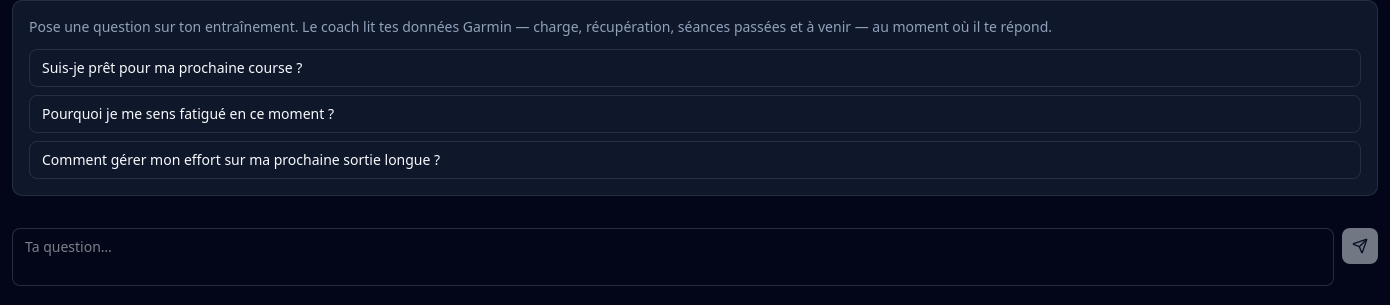
Test: ChatPanel › renders an error without losing the question
The width and height of the screenshot is (1390, 305).
Type "q" into the text box with placeholder "Ta question…" at (673, 257), box [12,228,1334,286]
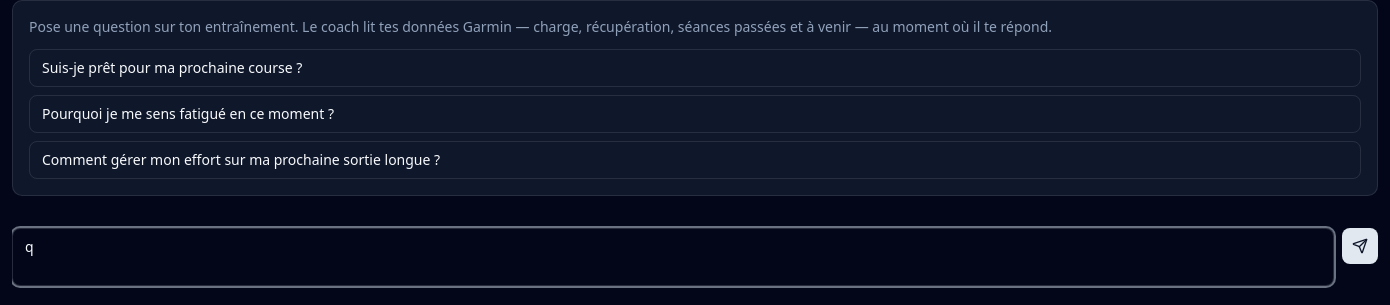
Click the button named "Envoyer" at (1360, 246), box [1342,228,1378,264]
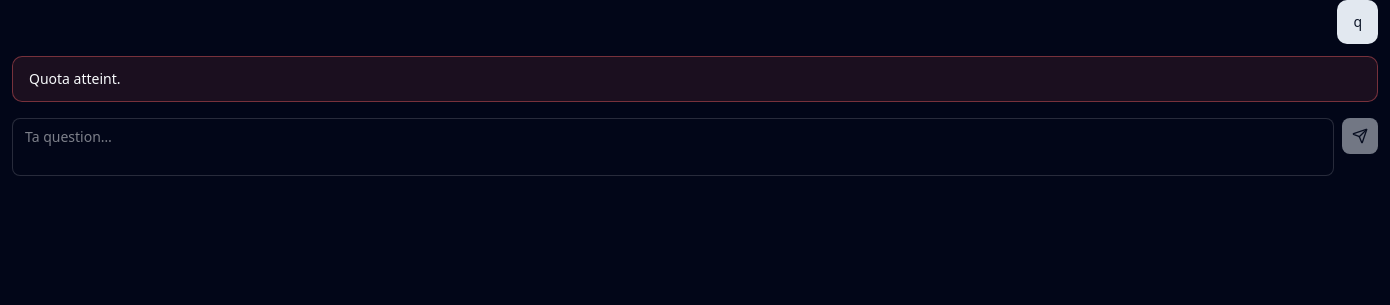
Expected: the text "q" is shown, [1353,12,1362,32]
Expected: the text "Quota atteint." is shown, [29,69,120,88]
